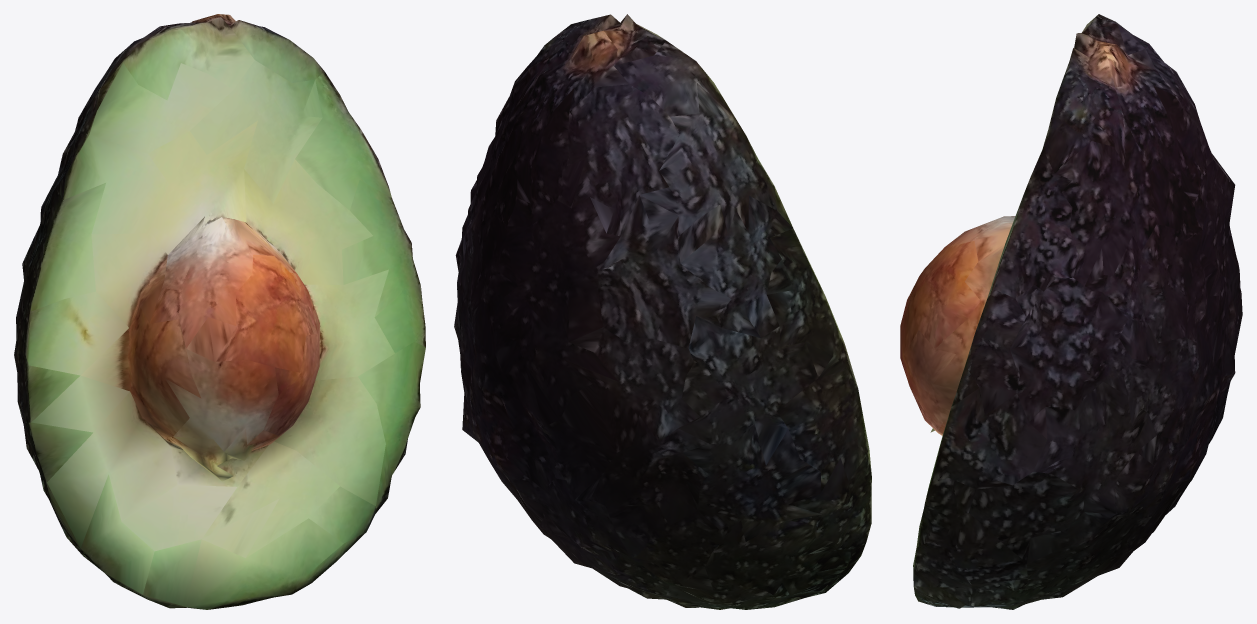
Rendered from avocado.glb.
3 views of the same model, side by side, from view 1: azimuth 30°, elevation 25°; view 2: azimuth 150°, elevation 25°; view 3: azimuth 270°, elevation 25° (orthographic). The views are drawn at different scales.
Parts seen in each view (by area): view 1: avocado; view 2: avocado; view 3: avocado.
Part boxes in pixels (<box>): avocado: <box>14,14,425,609</box>; avocado: <box>454,14,871,609</box>; avocado: <box>900,14,1242,609</box>.
Size of the model in its own units: 66.1 by 94.56 by 50.52.
Materials: 1 (1 with a texture image).
